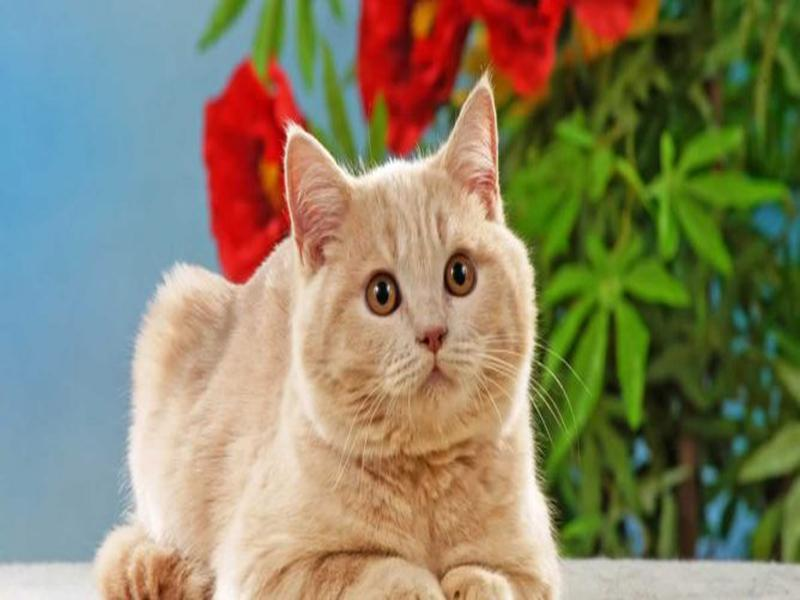cat: (87, 66, 572, 600)
